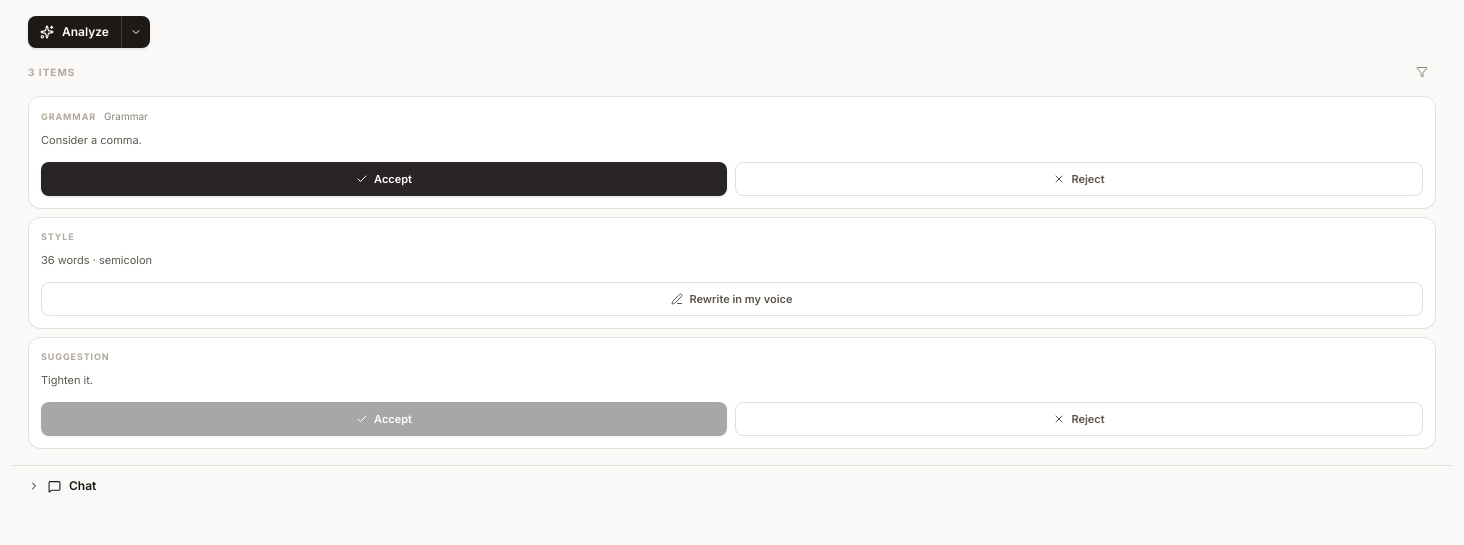
Scenario: ReviewPanel › unmounts a collapsed Chat section (keepMounted is false here on purpose; the other panels keep theirs mounted)
The image size is (1464, 545).
Step 1. Click the button with test id "section-chat" → (34,486), box top-left (12, 466), bottom-right (1452, 506)
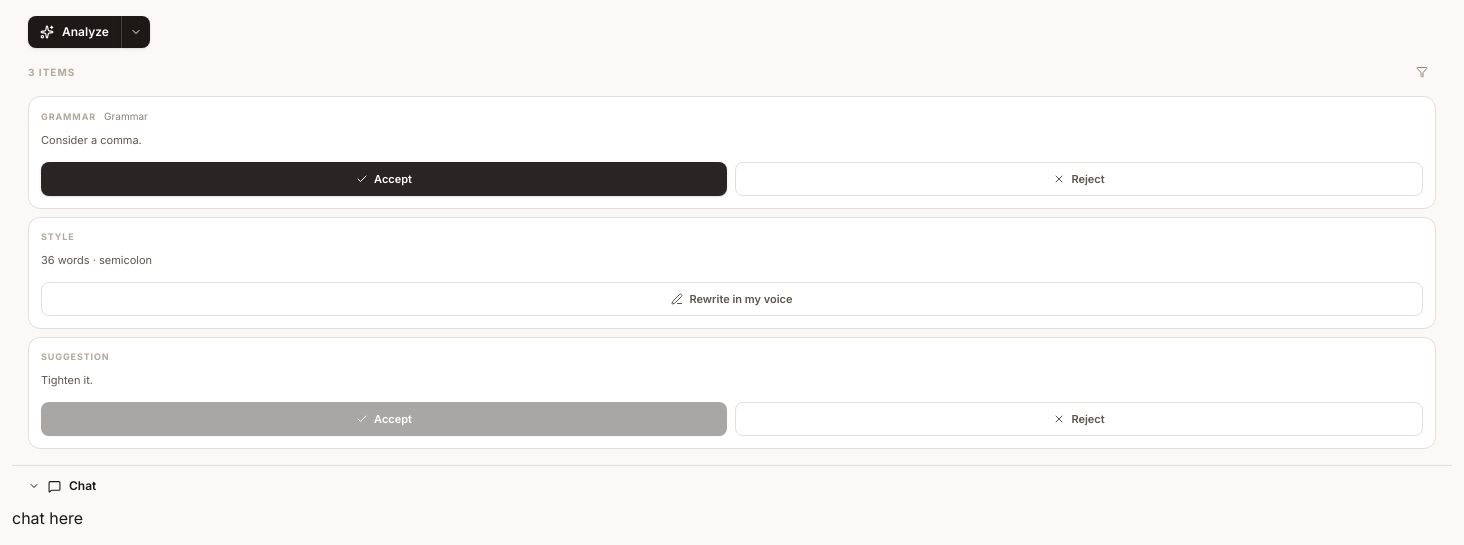
Expected: the text "chat here" is shown, top-left (12, 508), bottom-right (83, 528)
Step 2. Click the button with test id "section-chat" → (34,486), box top-left (12, 466), bottom-right (1452, 506)
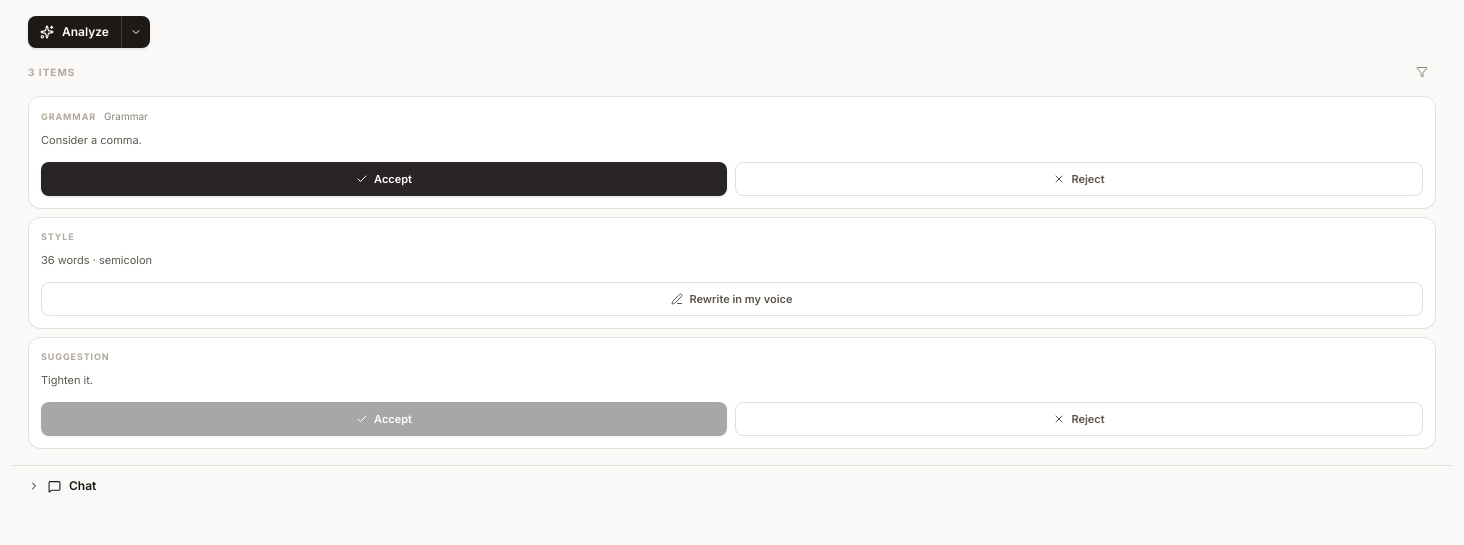
Expected: the text "chat here" is gone
